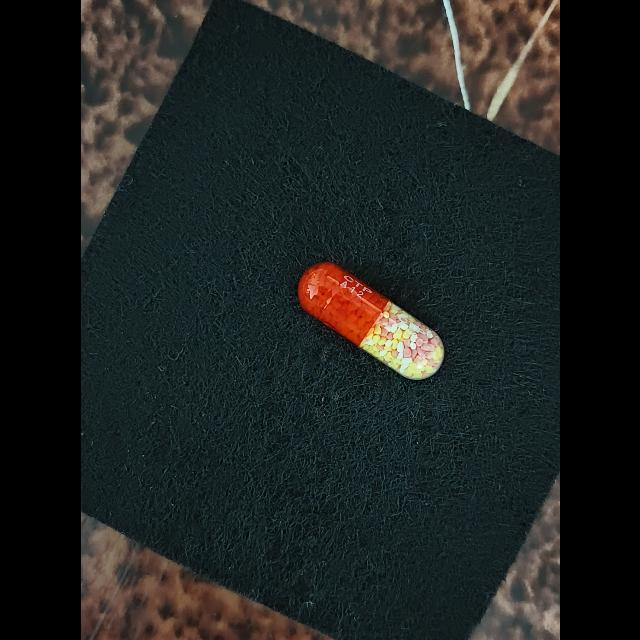Intact Capsule: (297, 262, 444, 380)
